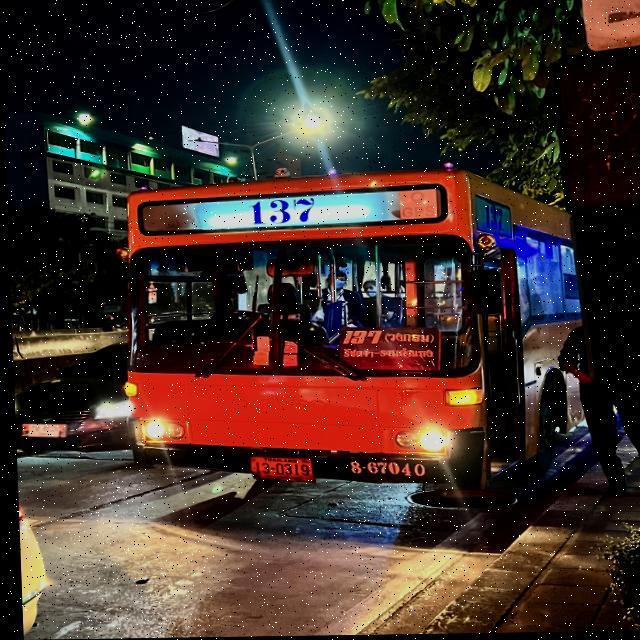BMTA-bus: (113, 169, 587, 497)
Bus-Line-Number: (229, 198, 334, 230)
Destination-Sign-Normal: (334, 325, 438, 377)
